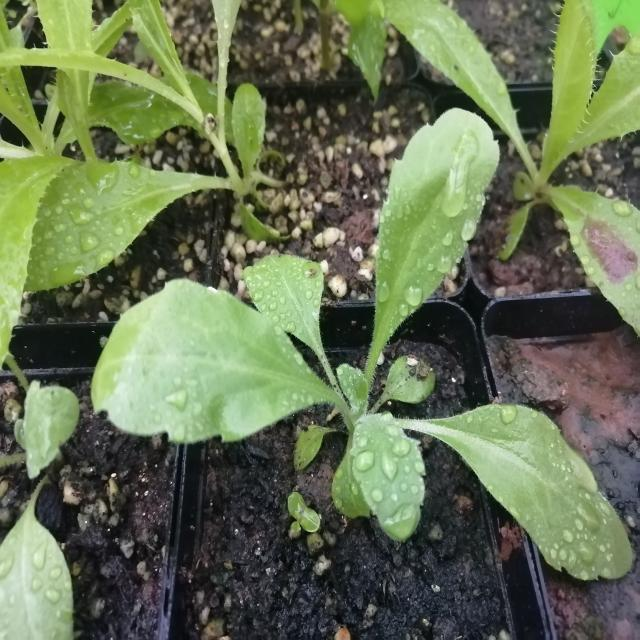horseweed: (144, 162, 592, 558)
